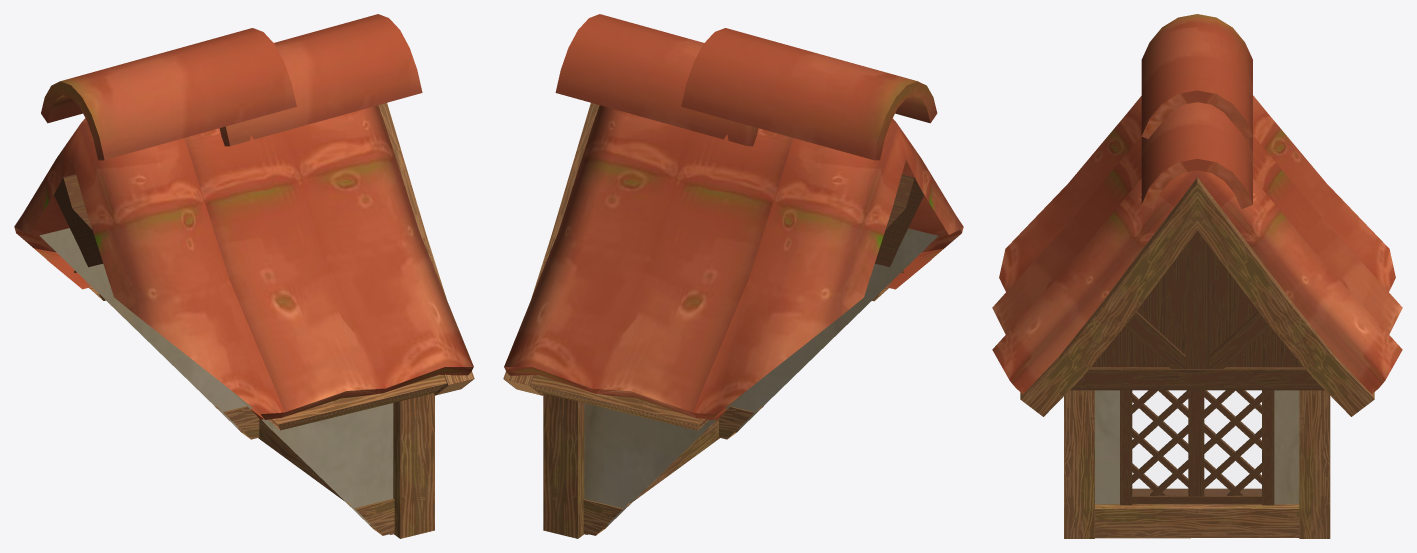
File: roof_dormer.glb
3 views of the same model, side by side, from view 1: azimuth 30°, elevation 25°; view 2: azimuth 150°, elevation 25°; view 3: azimuth 270°, elevation 25° (orthographic). The views are drawn at different scales.
Visible parts, largest first — view 1: Roof_Dormer_RoundTile; view 2: Roof_Dormer_RoundTile; view 3: Roof_Dormer_RoundTile.
Part boxes in pixels (bbox=[...]): Roof_Dormer_RoundTile: bbox=[14, 14, 474, 538]; Roof_Dormer_RoundTile: bbox=[503, 14, 963, 538]; Roof_Dormer_RoundTile: bbox=[992, 14, 1402, 538].
Bounding box in the file's own units: 1.97 × 2.67 × 2.44.
Materials: 4 (3 with a texture image).
